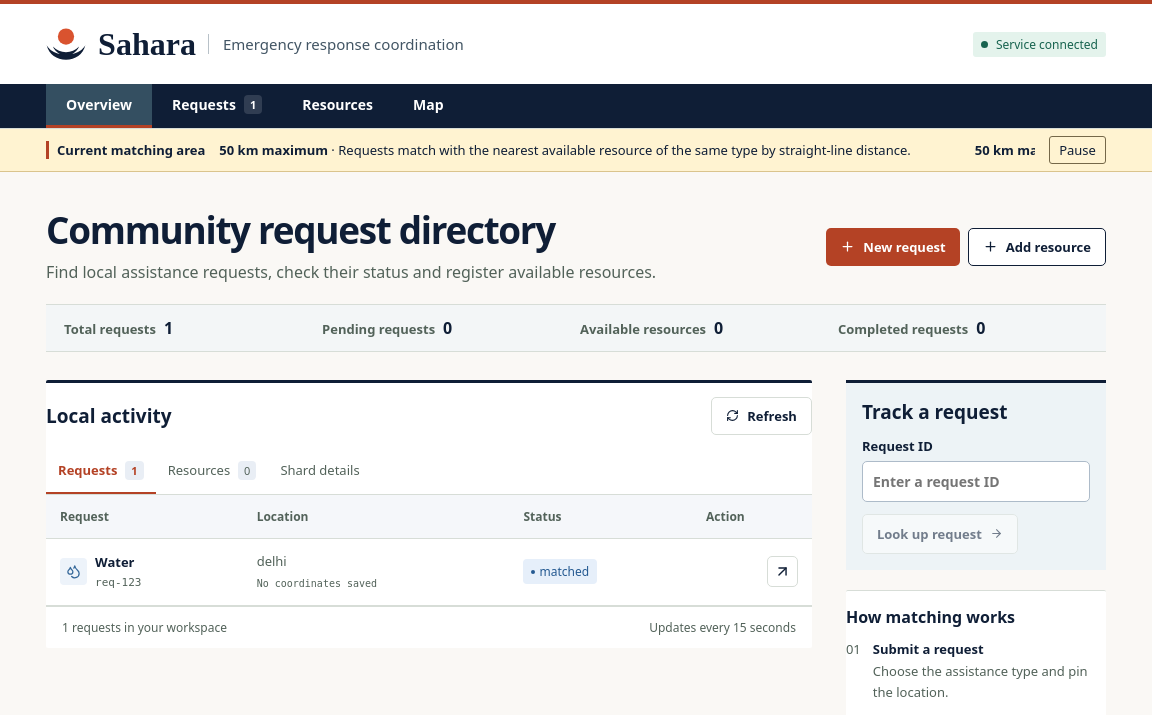
Scenario: keeps keyboard focus inside the dialog after completing a request
Click the button named "View request req-123".
click(782, 572)  # box [767, 556, 798, 587]
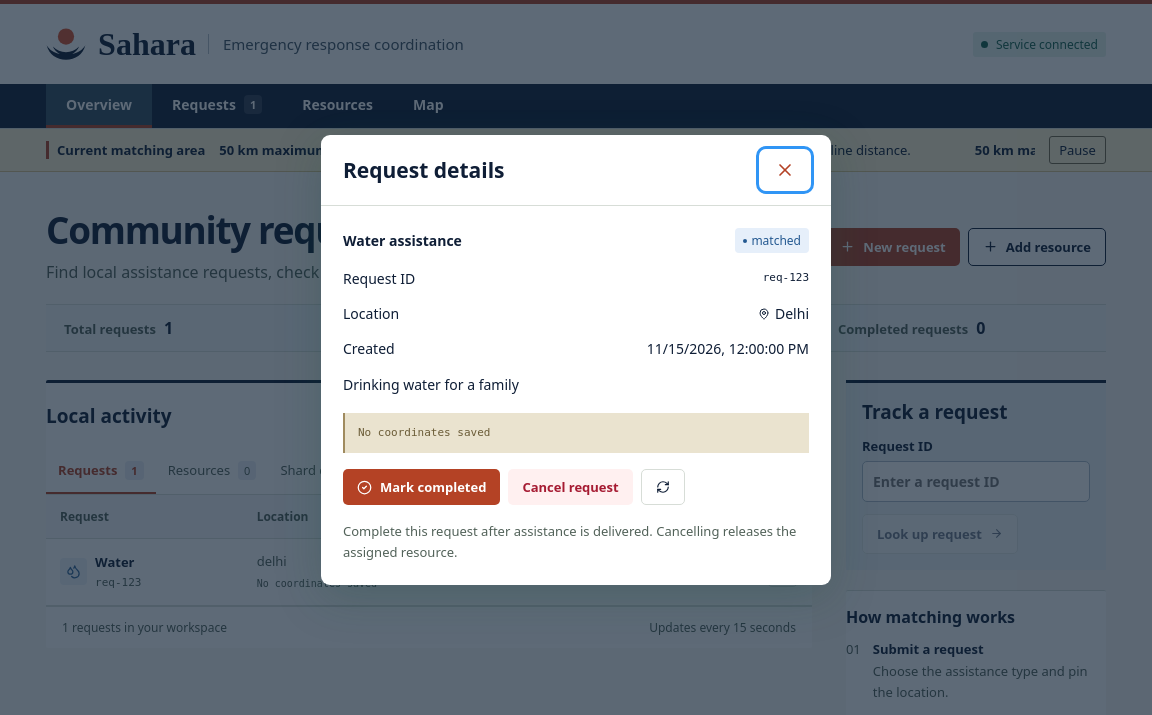
Click the button "Mark completed".
click(422, 487)  # box [343, 469, 500, 505]
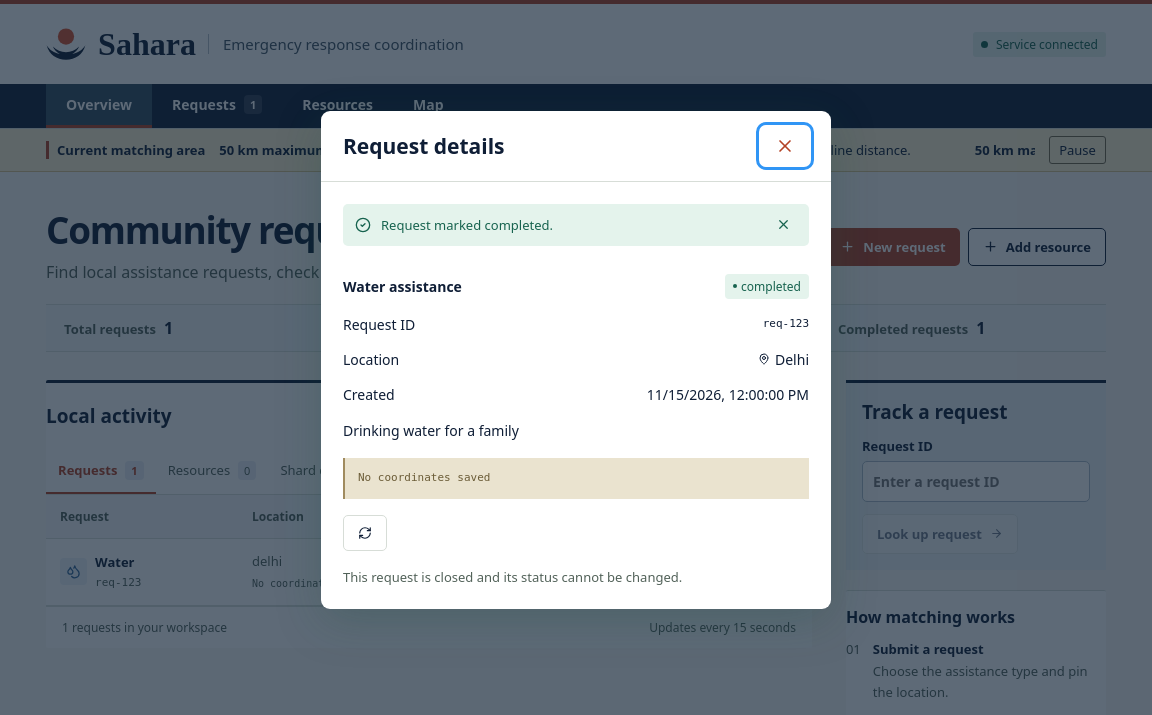
Check: the text "Request marked completed." is shown, box [381, 216, 553, 234]
Press Escape
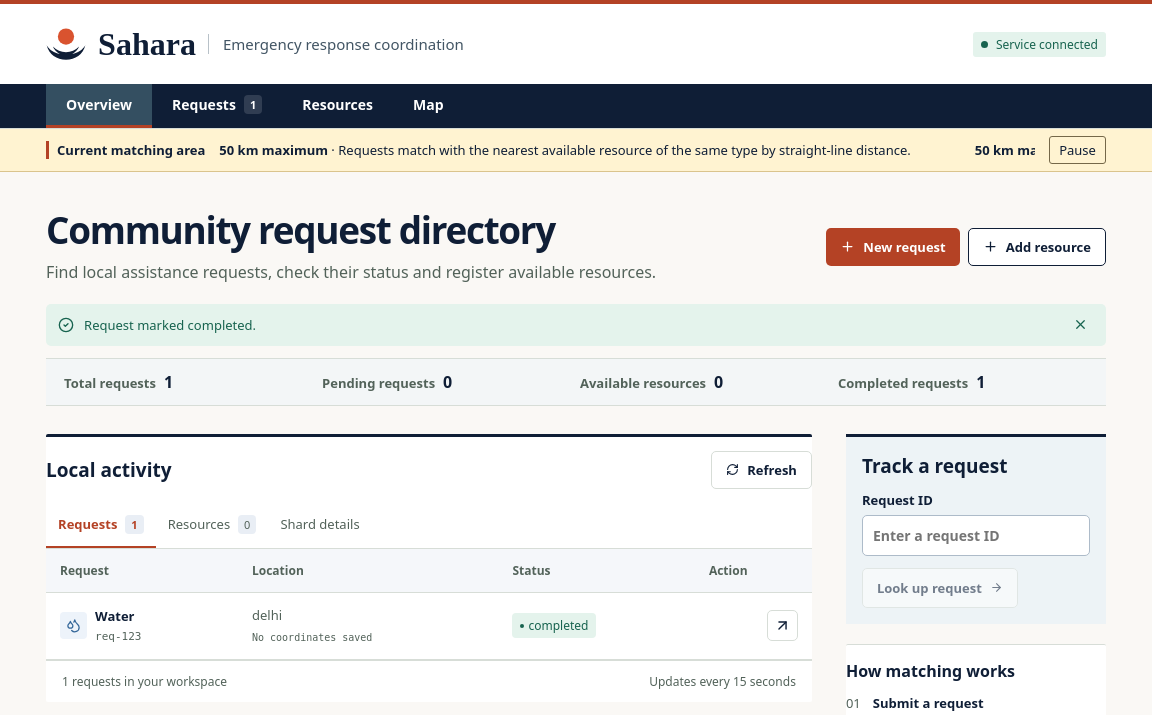
Check: the dialog is gone
